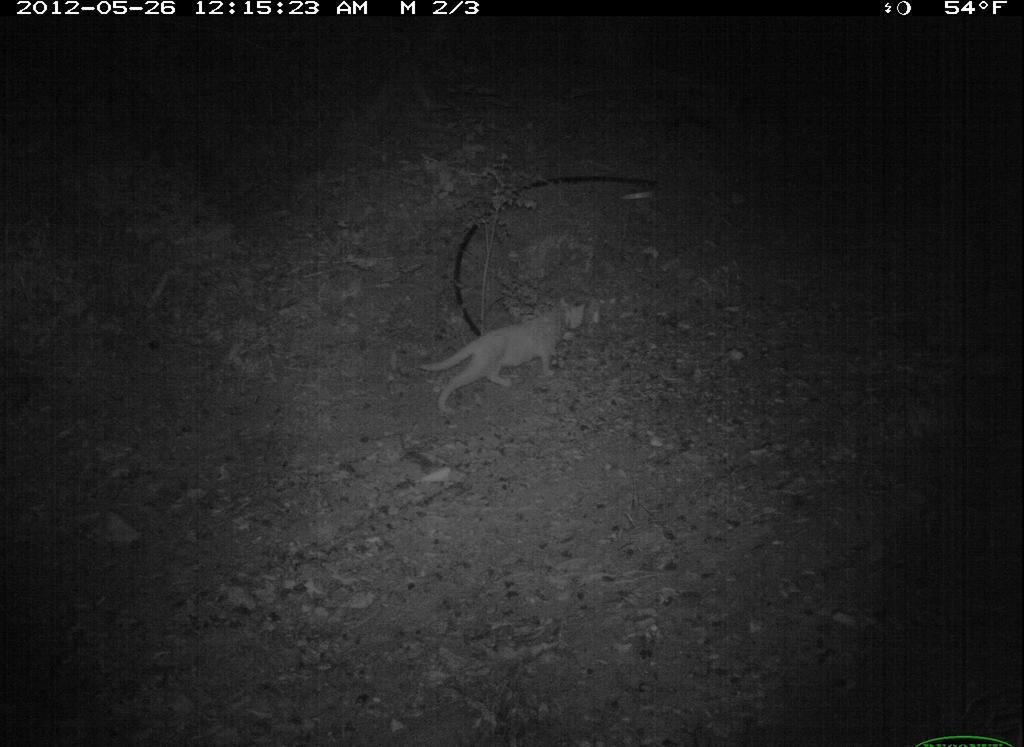cat: (415, 290, 593, 422)
